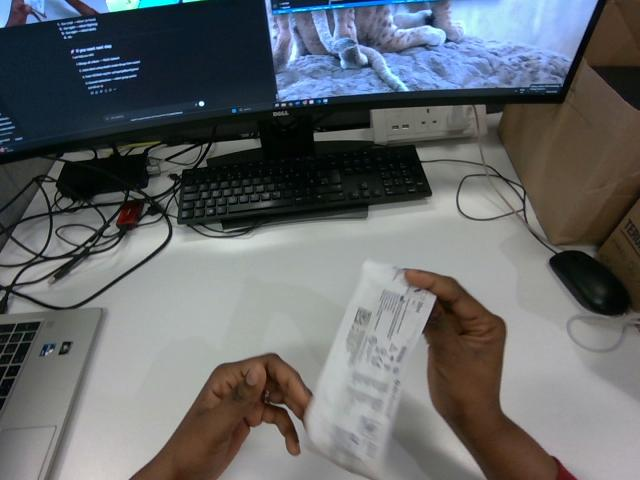syringe: (305, 260, 435, 478)
